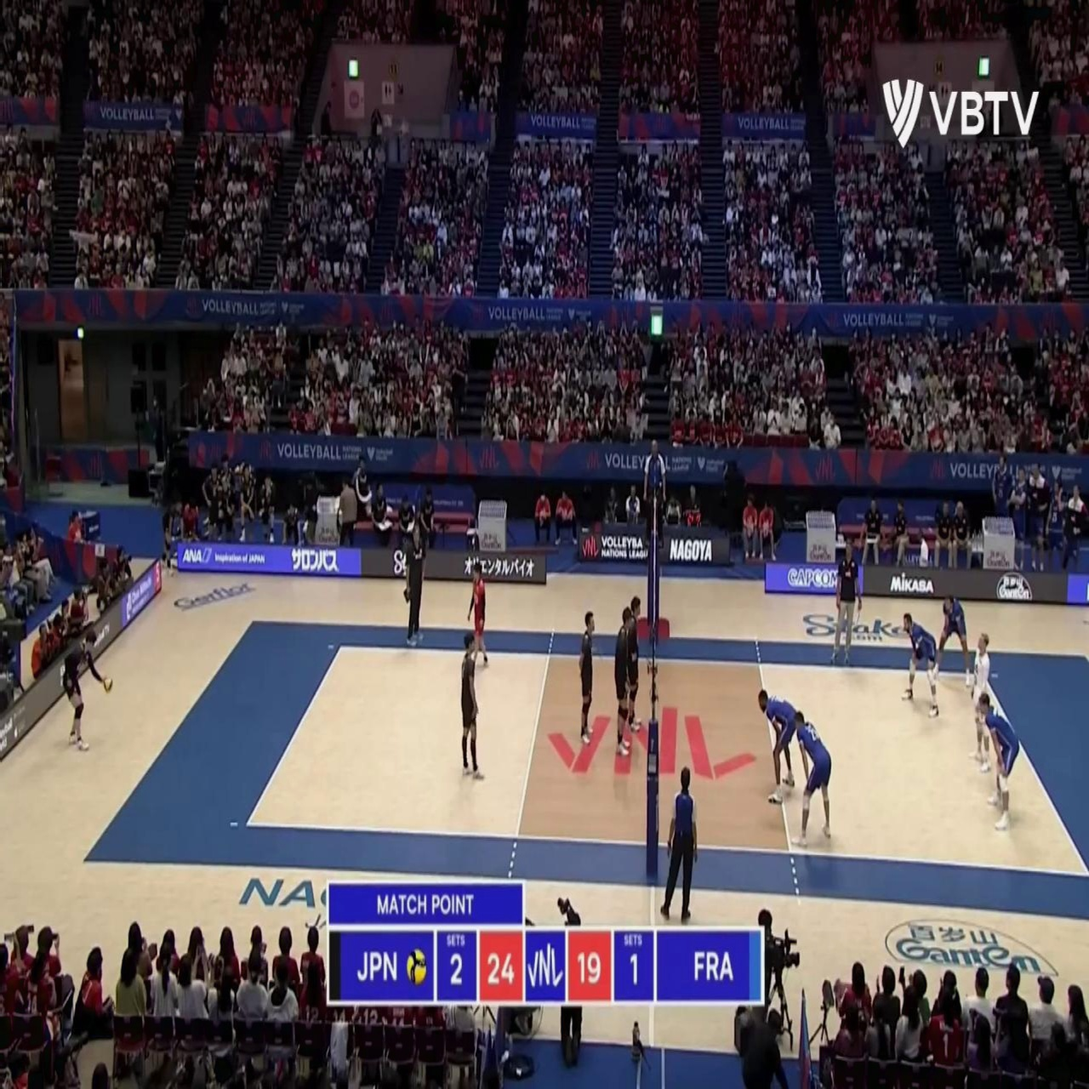ball: (103, 675, 113, 694)
